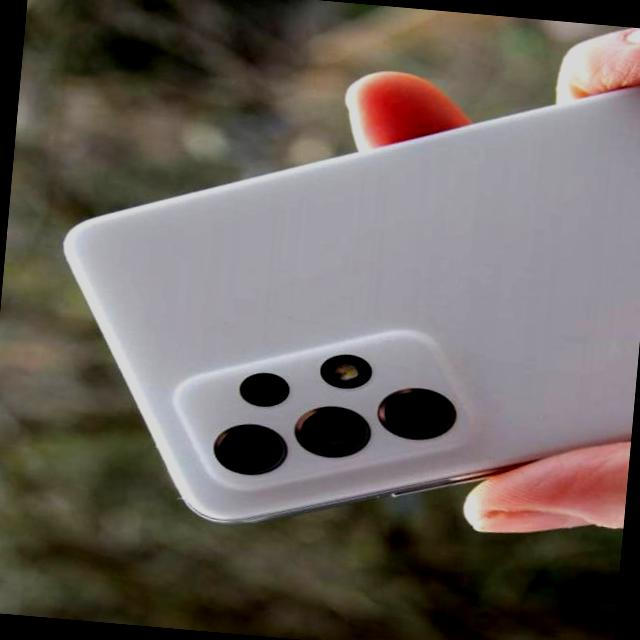lens_back: (288, 396, 379, 466), (372, 378, 463, 446), (209, 413, 296, 482)
phone: (36, 28, 640, 563)
